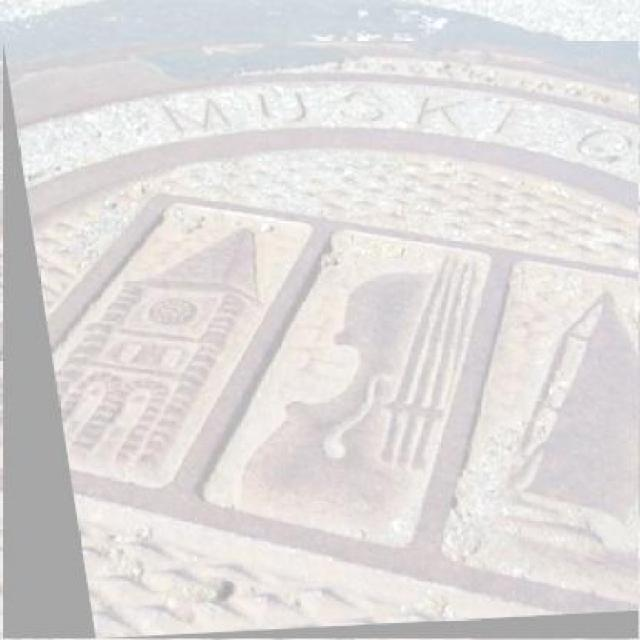Manhole: (3, 40, 639, 639)
